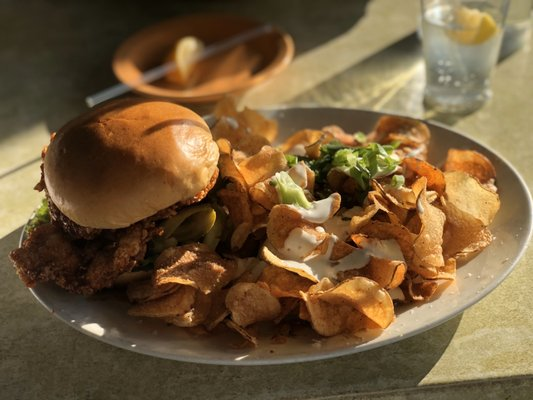soup: (10, 100, 222, 298)
sushi: (110, 15, 297, 107)
